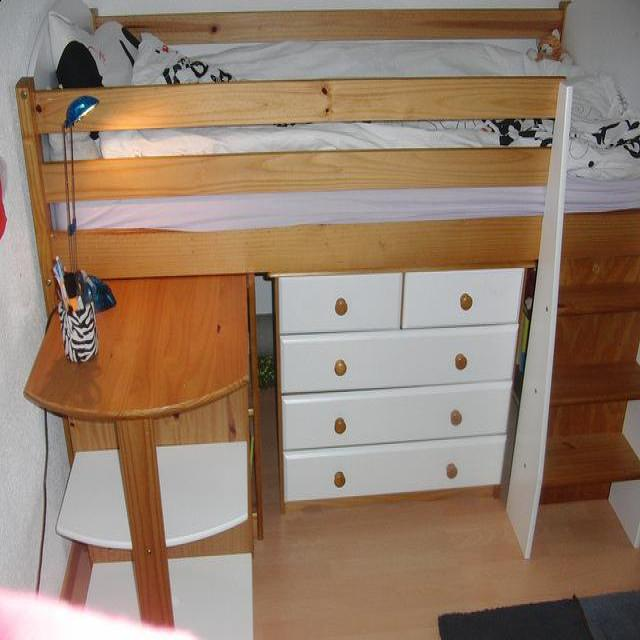bed: (14, 3, 640, 562)
teddy bear: (526, 28, 574, 67)
